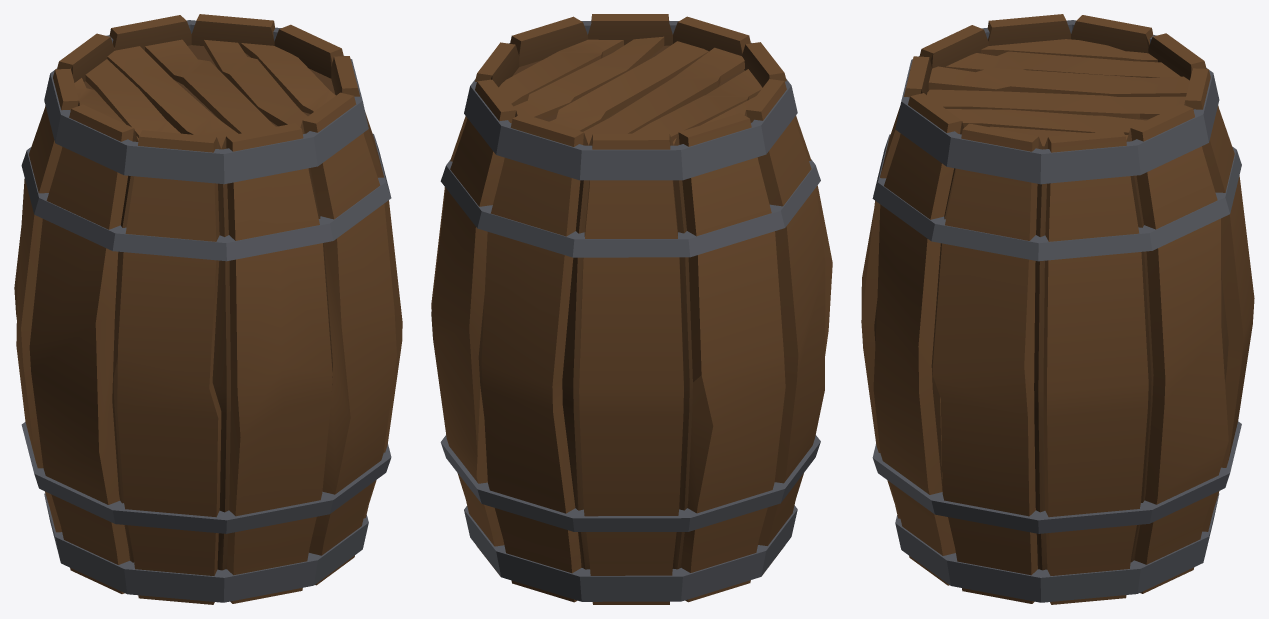
File: Barrel.glb
The picture shows the model from 3 angles, left to right: view 1: azimuth 30°, elevation 25°; view 2: azimuth 150°, elevation 25°; view 3: azimuth 270°, elevation 25°; orthographic projection.
Visible parts, largest first — view 1: Barrel; view 2: Barrel; view 3: Barrel.
Part boxes in pixels (left/top/right/bottom): Barrel: left=14, top=14, right=402, bottom=604; Barrel: left=431, top=14, right=832, bottom=604; Barrel: left=861, top=14, right=1254, bottom=604.
Size of the model in its own units: 0.1582 by 0.2043 by 0.1568.
